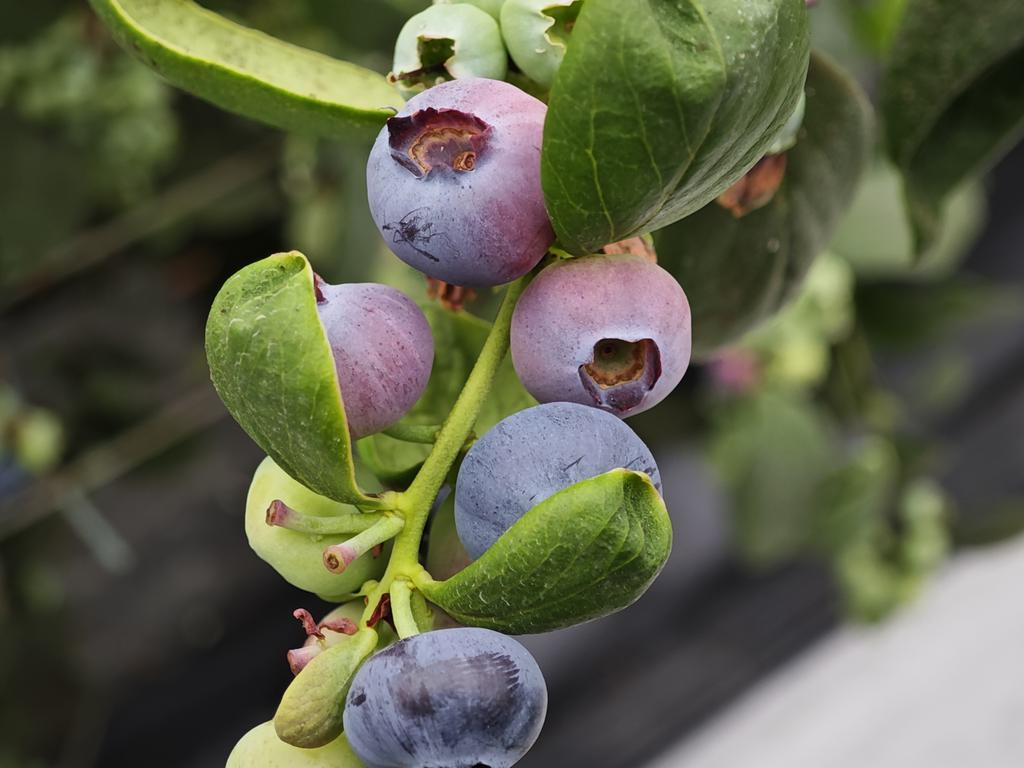RipeBlueBerry: (347, 623, 549, 768)
Semi-RipeBlueBerry: (368, 77, 548, 281), (513, 257, 693, 410)
